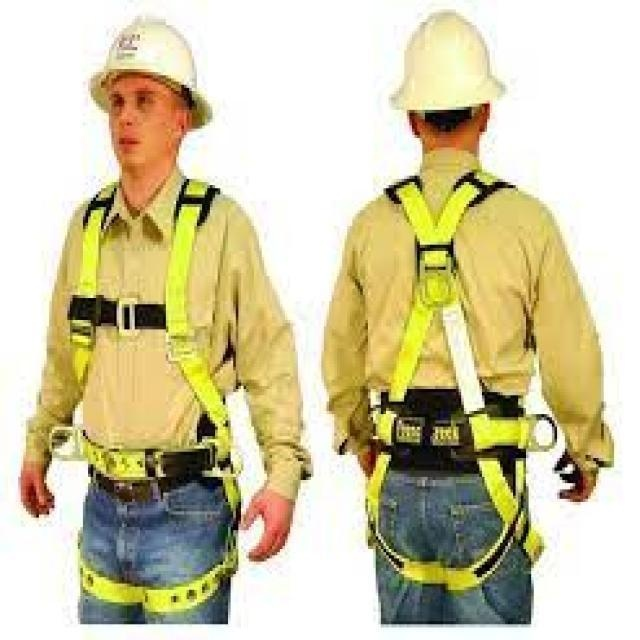Arnes_seguridad: (66, 172, 246, 612), (362, 169, 545, 590)
